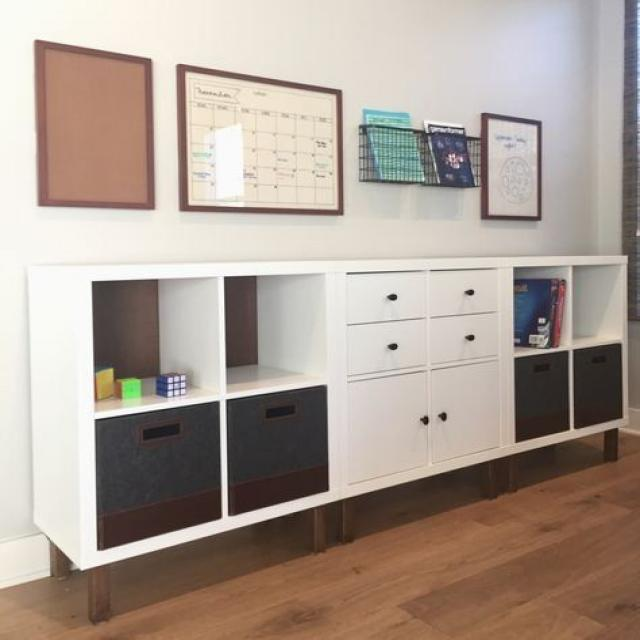Shelf: (30, 251, 640, 627)
